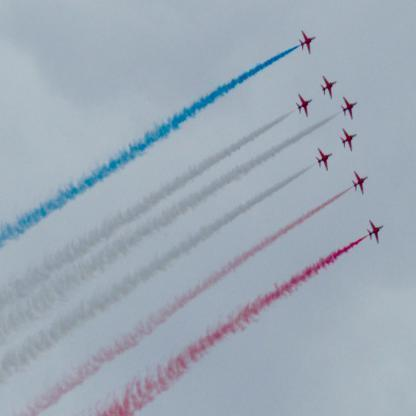aircraft: (367, 218, 384, 245), (299, 30, 318, 54), (340, 127, 358, 152), (320, 75, 337, 100), (315, 148, 333, 171), (351, 171, 368, 195), (341, 96, 358, 120), (295, 93, 312, 116)
